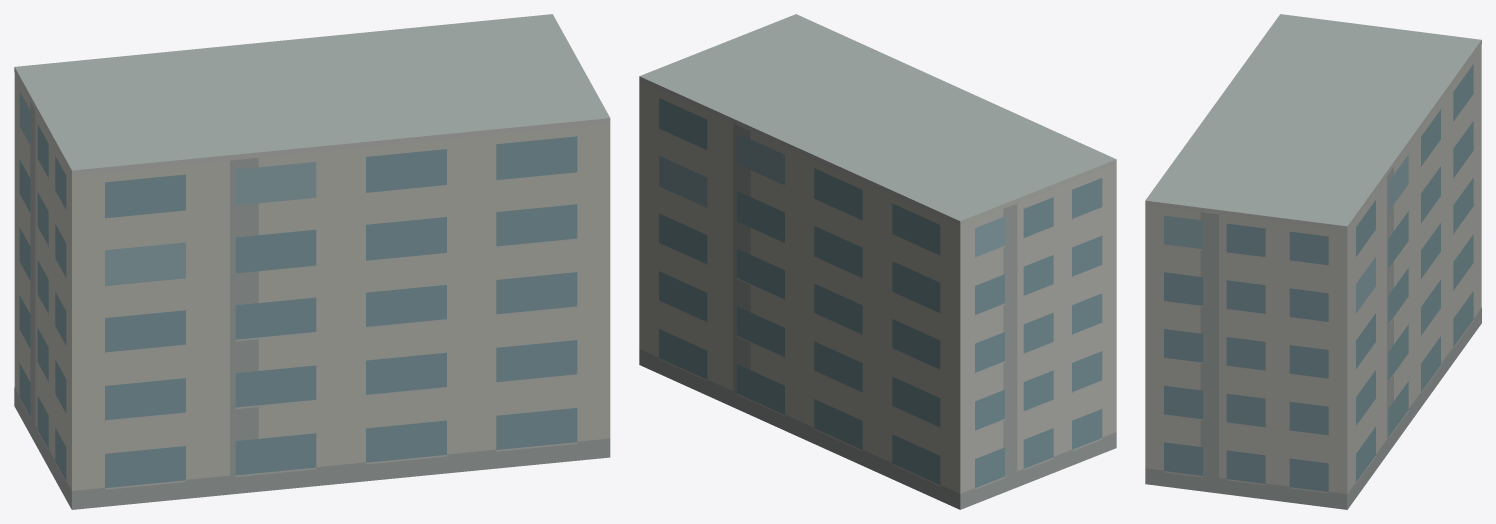
Rendered from survey-upis-33046289.glb.
3 renders of one model, left to right at view 1: azimuth 30°, elevation 25°; view 2: azimuth 150°, elevation 25°; view 3: azimuth 270°, elevation 25°, orthographic. The views are drawn at different scales.
Visible parts, largest first — view 1: survey-upis-33046289.tmp; view 2: survey-upis-33046289.tmp; view 3: survey-upis-33046289.tmp.
Boxes of the visible parts, x1,y1,x2,y2 form: survey-upis-33046289.tmp: (14,14,610,509); survey-upis-33046289.tmp: (639,14,1116,509); survey-upis-33046289.tmp: (1145,14,1481,509).
Bounding box in the file's own units: 24.51 × 15.25 × 16.42.
